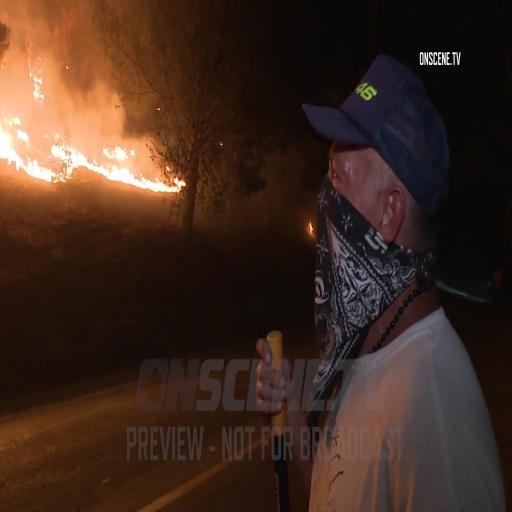fire: (0, 118, 86, 182)
